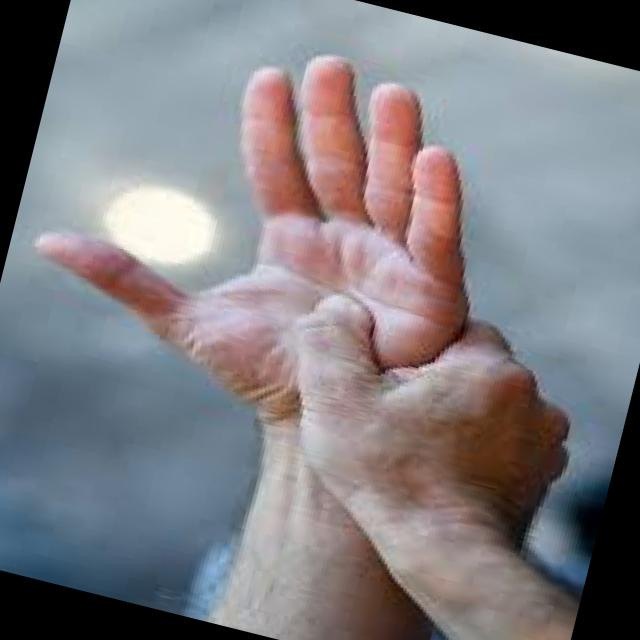Hand: (0, 0, 530, 462), (229, 266, 609, 610)
